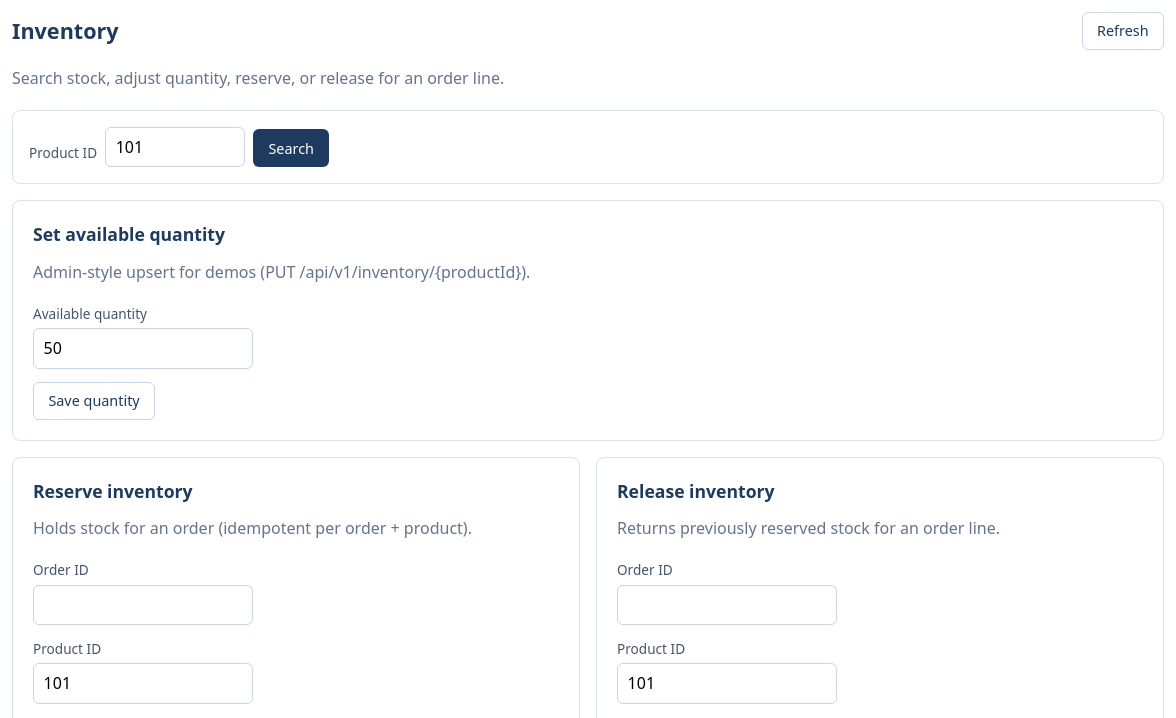
it: inventory search loads product details
This screenshot has width=1176, height=718.
Click the button "Search" at (291, 148), box [253, 129, 329, 167]
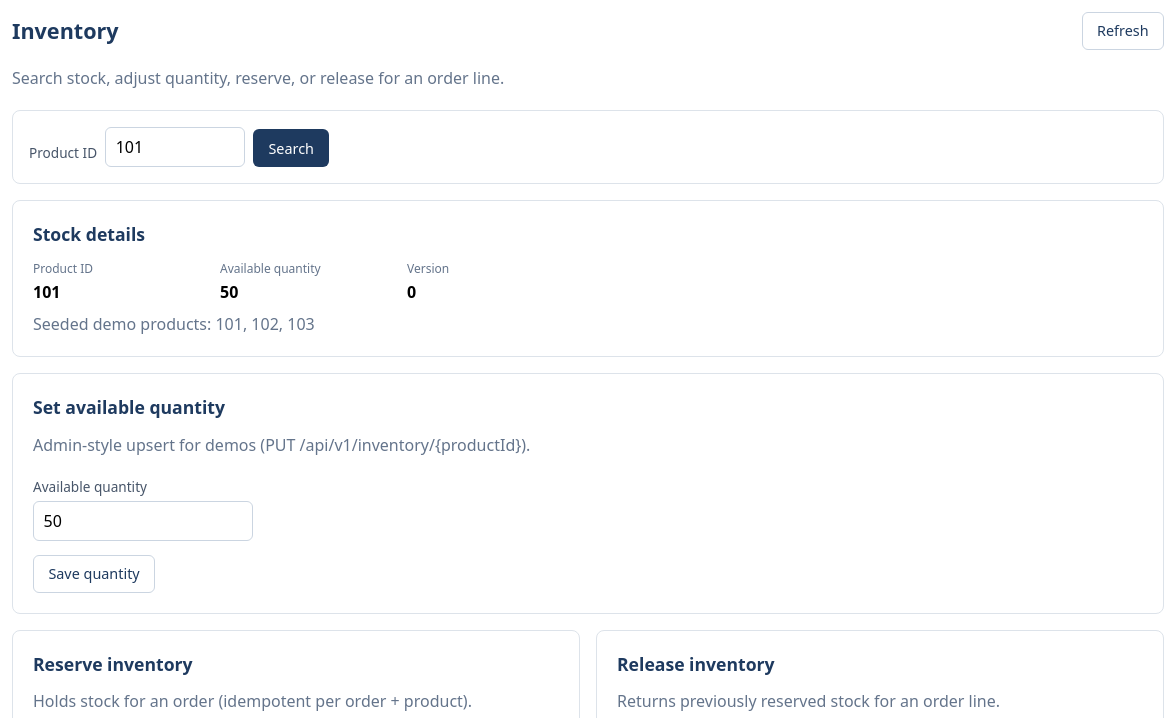
Expected: the heading "Stock details" is shown, [33, 222, 145, 246]
Expected: the text "50" is shown, [220, 281, 238, 303]
